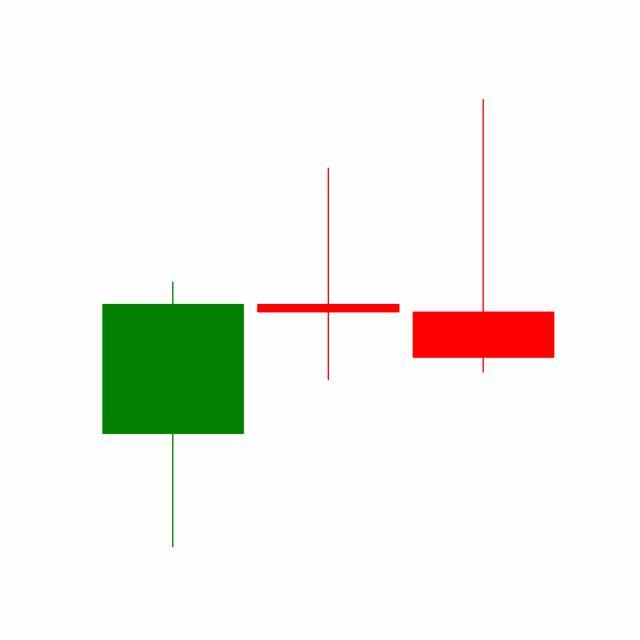Spinning Top: (250, 165, 407, 383)
